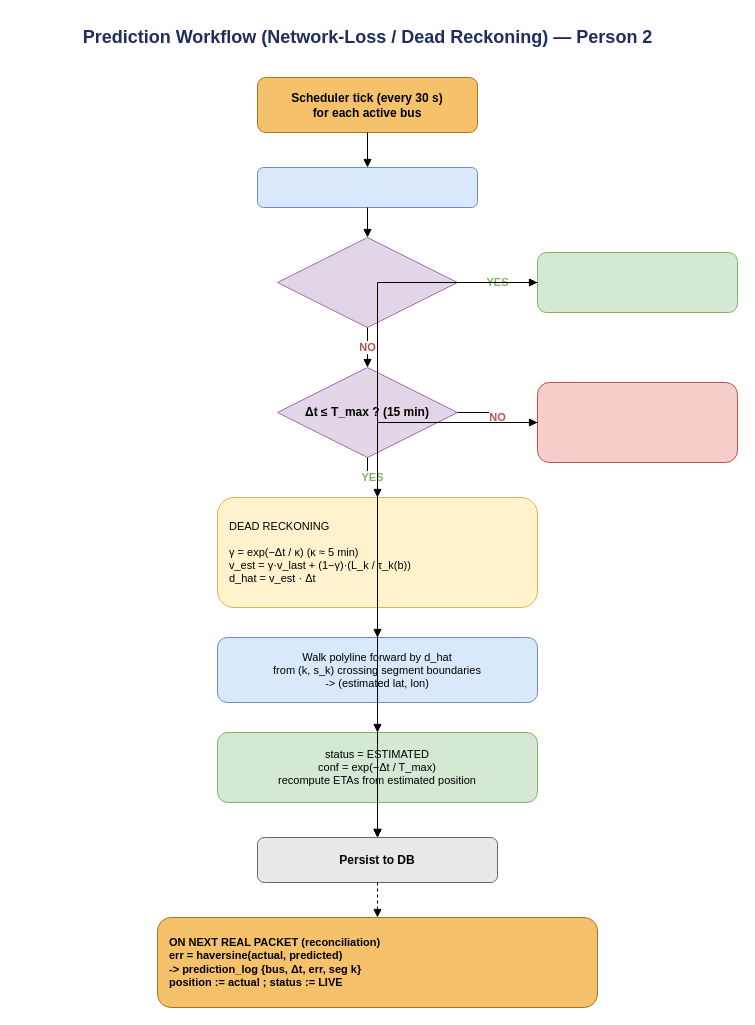
The diagram is 755 pixels wide and 1025 high, and some of its shapes have lost their labels. Here are the shapes that lost their labels. From the top down, the centre of each, then its label:
the point at 367,187: Δt = now − last_packet_ts
the point at 367,282: Δt ≤ 1.5·T_pkt ?
the point at 637,282: status = LIVE (nothing to do)
the point at 637,422: status = LAST_KNOWN freeze position ETAs = unknown conf = 0
